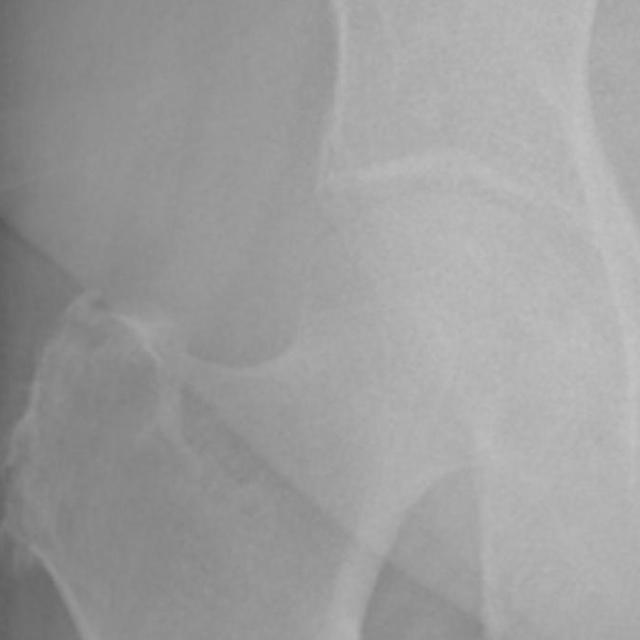Fitted_femural_head: (285, 192, 432, 285)
